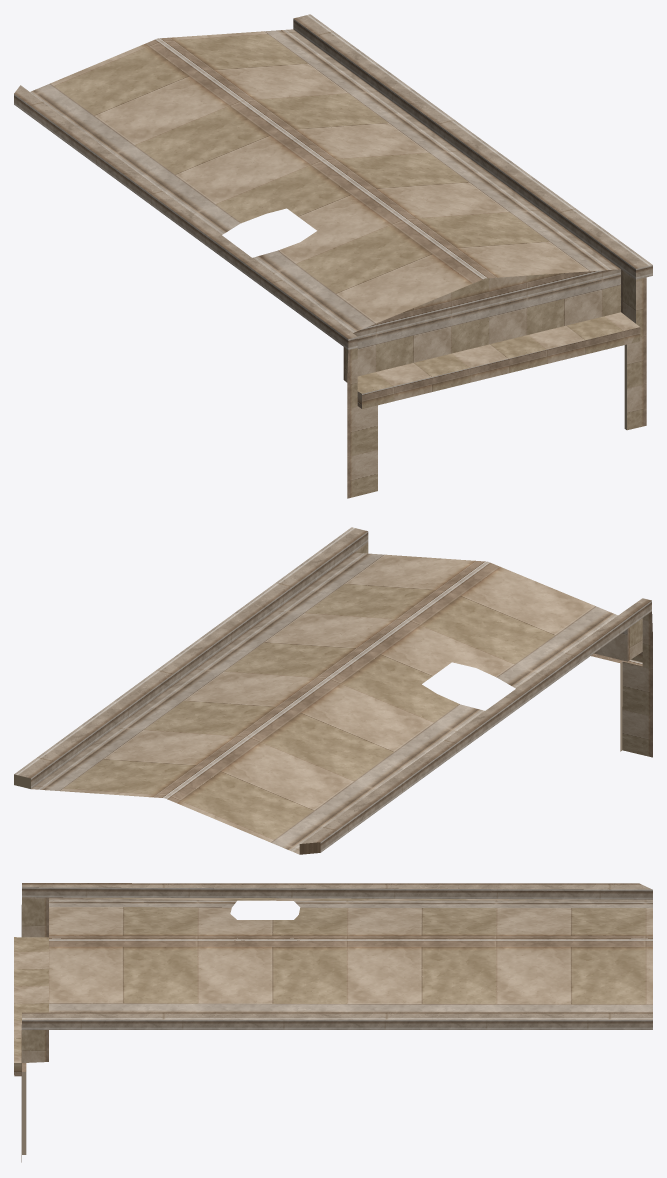
The model's file is Cor1_bldg_Grand_hall_Outside.fbx.
The picture shows the model from 3 angles, top to bottom: view 1: azimuth 30°, elevation 25°; view 2: azimuth 150°, elevation 25°; view 3: azimuth 270°, elevation 25°; orthographic projection. The views are drawn at different scales.
Visible parts, largest first — view 1: cor1_bldg_rooog; view 2: cor1_bldg_rooog; view 3: cor1_bldg_rooog.
Boxes of the visible parts, bbox=[...] form: cor1_bldg_rooog: bbox=[14, 14, 652, 498]; cor1_bldg_rooog: bbox=[14, 527, 652, 854]; cor1_bldg_rooog: bbox=[14, 883, 652, 1162].
Size of the model in its own units: 6037 by 3252 by 11865.
